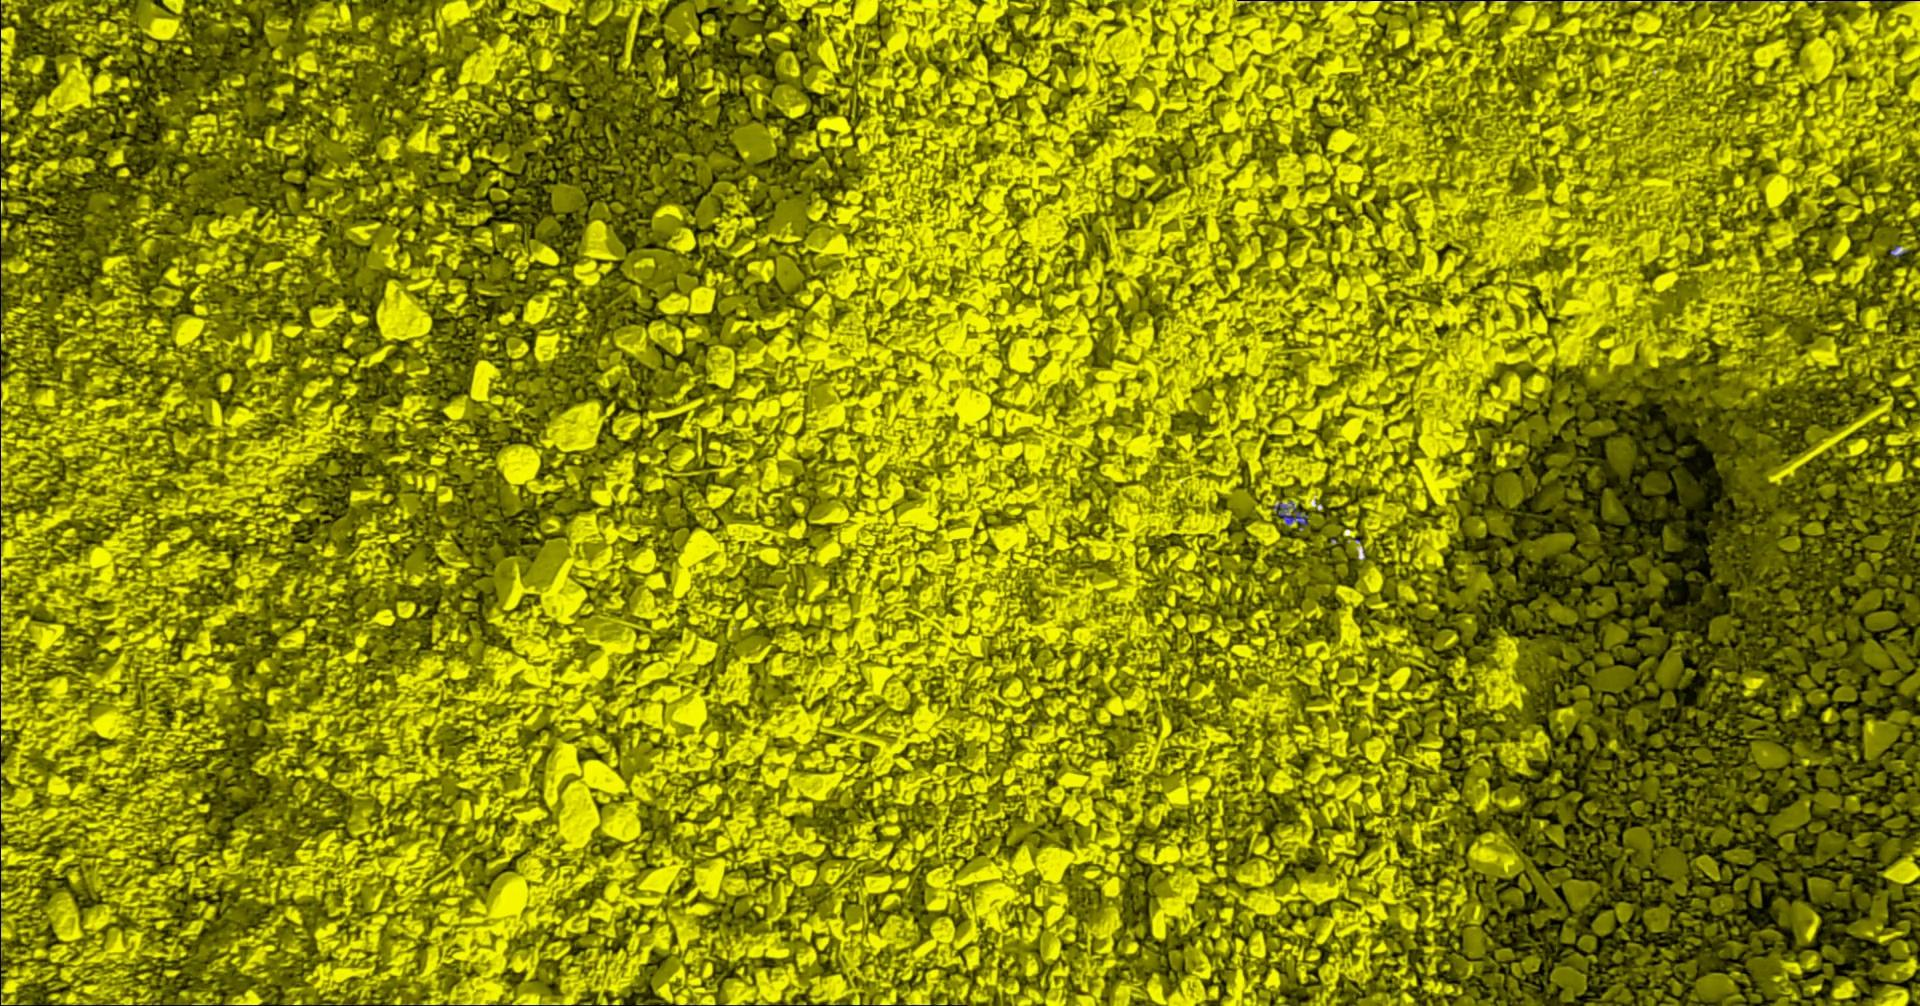ant: (1275, 502, 1310, 528)
